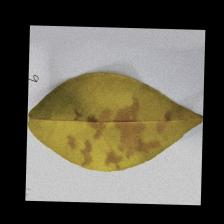canker: (59, 97, 175, 166)
